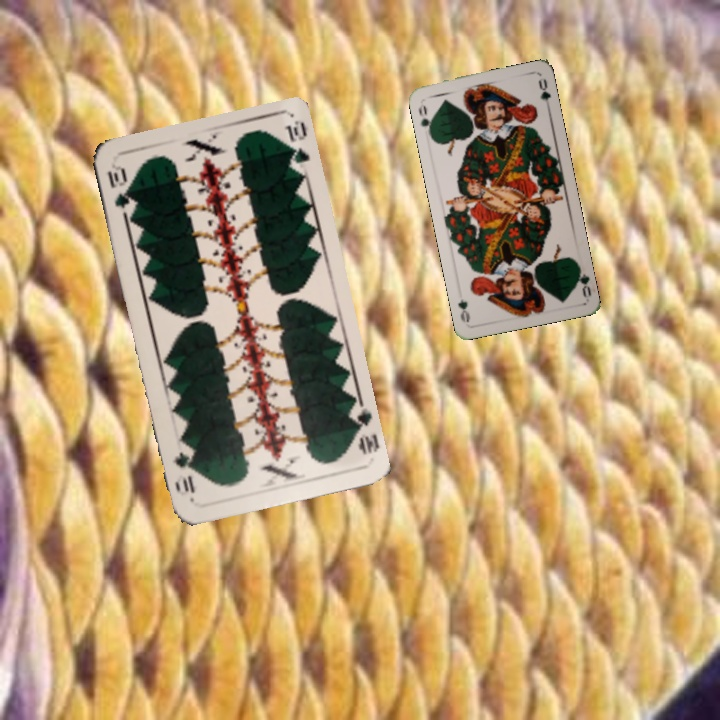G10: (344, 402, 381, 458), (103, 160, 133, 211)
GO: (572, 260, 594, 299), (414, 100, 435, 138)
